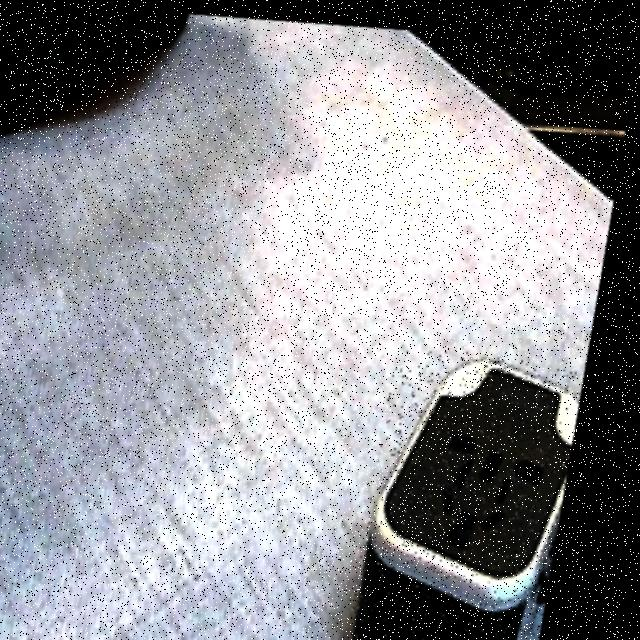adapter: (364, 340, 598, 640)
